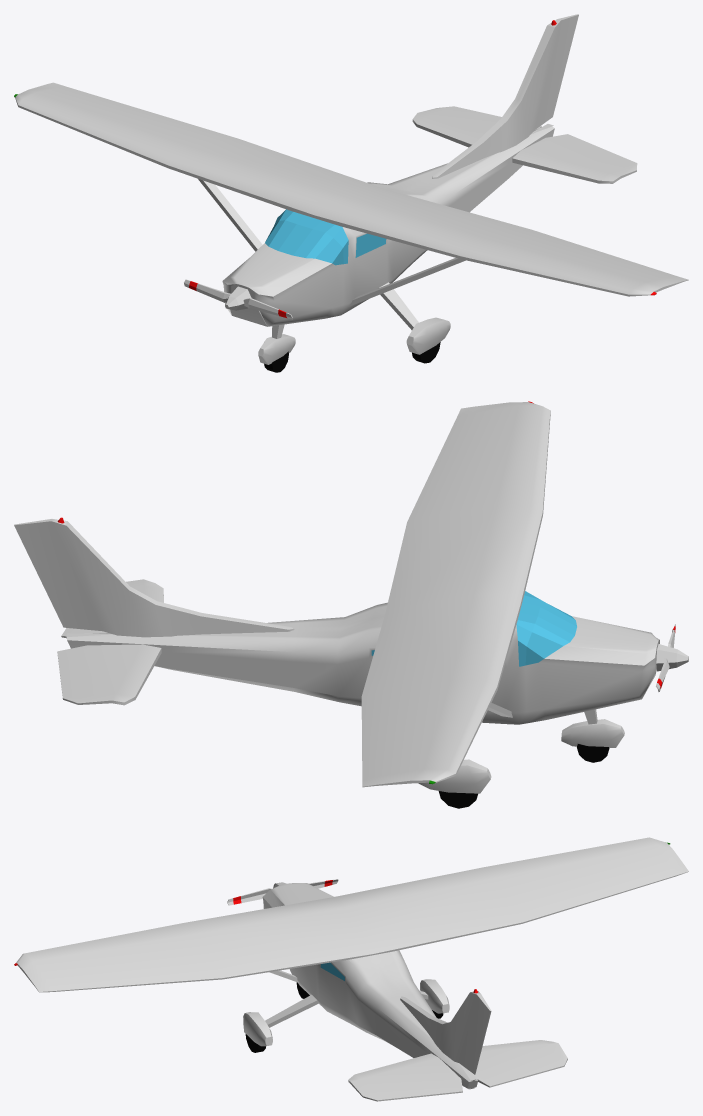
The picture shows the model from 3 angles, top to bottom: view 1: azimuth 30°, elevation 25°; view 2: azimuth 150°, elevation 25°; view 3: azimuth 270°, elevation 25°; orthographic projection. The views are drawn at different scales.
Parts seen in each view (by area): view 1: Plane_0, Plane-Propeller_1; view 2: Plane_0, Plane-Propeller_1; view 3: Plane_0, Plane-Propeller_1.
Part boxes in pixels (x1=…): Plane_0: x1=14, y1=14, x2=688, y2=372; Plane-Propeller_1: x1=184, y1=279, x2=292, y2=319; Plane_0: x1=14, y1=401, x2=659, y2=808; Plane-Propeller_1: x1=656, y1=624, x2=688, y2=691; Plane_0: x1=14, y1=837, x2=688, y2=1101; Plane-Propeller_1: x1=227, y1=879, x2=338, y2=905.
Size of the model in its own units: 7.11 by 2.7 by 9.62.
